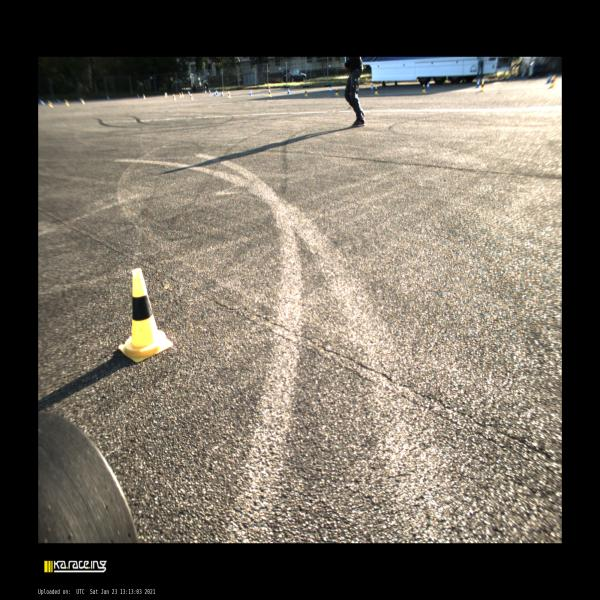blue_cone: (545, 75, 550, 84), (370, 84, 374, 92), (328, 85, 332, 93), (287, 87, 291, 95), (476, 79, 479, 88), (427, 82, 430, 90), (220, 91, 224, 97), (249, 90, 252, 95), (216, 89, 218, 95), (214, 91, 216, 96), (188, 91, 190, 95), (209, 90, 210, 94)
yellow_cone: (118, 268, 174, 363), (550, 74, 555, 88), (480, 80, 484, 92), (422, 83, 426, 94), (334, 88, 339, 95), (267, 90, 272, 97), (374, 87, 378, 94), (304, 89, 308, 96), (227, 91, 231, 98), (173, 94, 176, 100), (190, 95, 193, 100), (179, 93, 182, 98), (143, 94, 146, 99), (164, 92, 166, 97), (182, 92, 183, 97)
